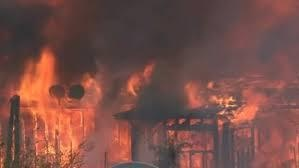fire: (0, 46, 102, 164)
